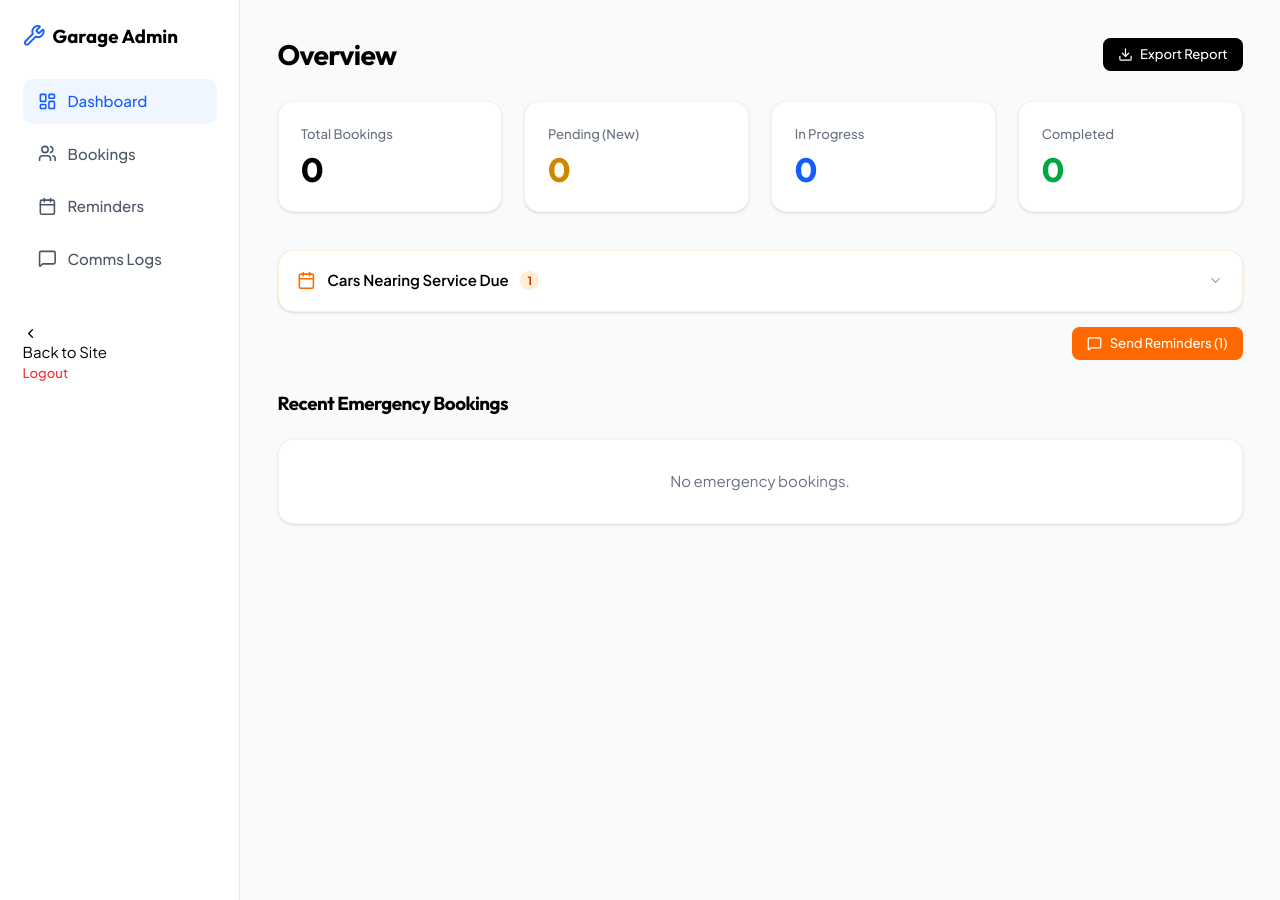
Scenario: Admin — PDF download button in reminders tab › Download PDF button renders in reminders tab
expect the text "Cars Nearing Service Due" is shown: met, box [327,269,509,292]
Step 1. Click the button "Reminders" → (120, 206), box [22,184,216,229]
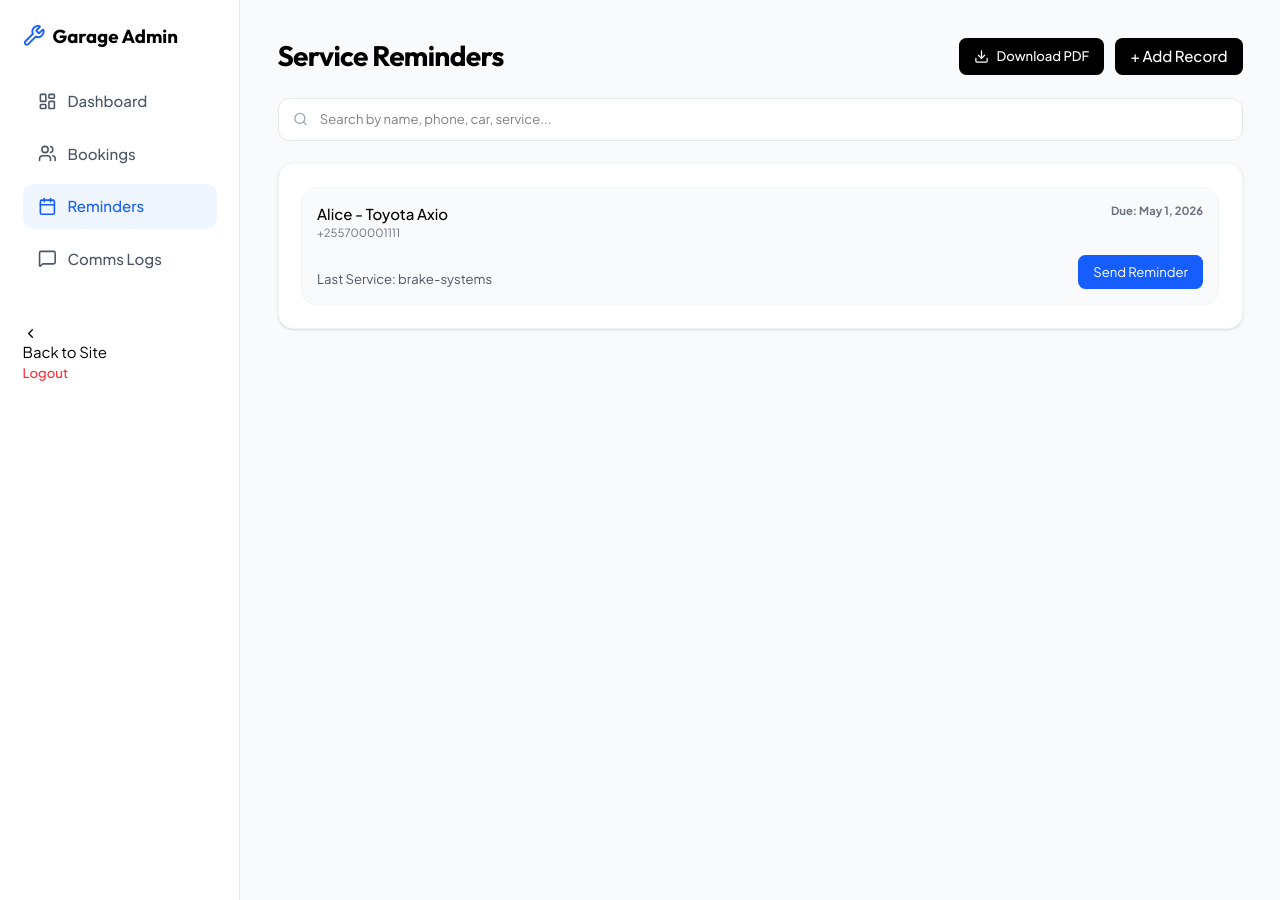
expect the button "Download PDF" is shown: met, box [959,38,1104,75]
